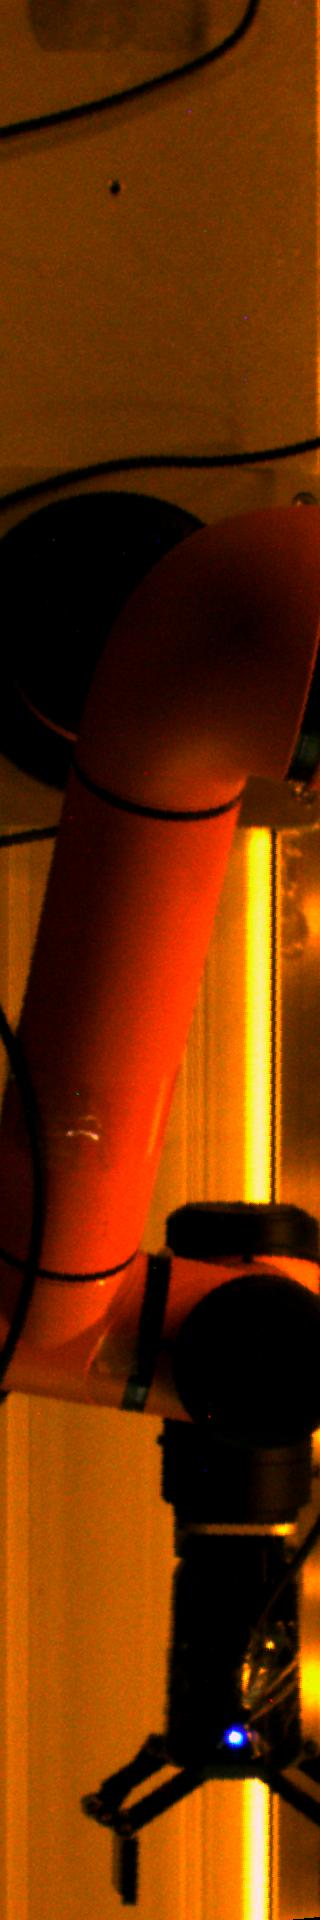keyPoint_1: (219, 1719, 250, 1749)
keyPoint_2: (99, 173, 129, 203)
